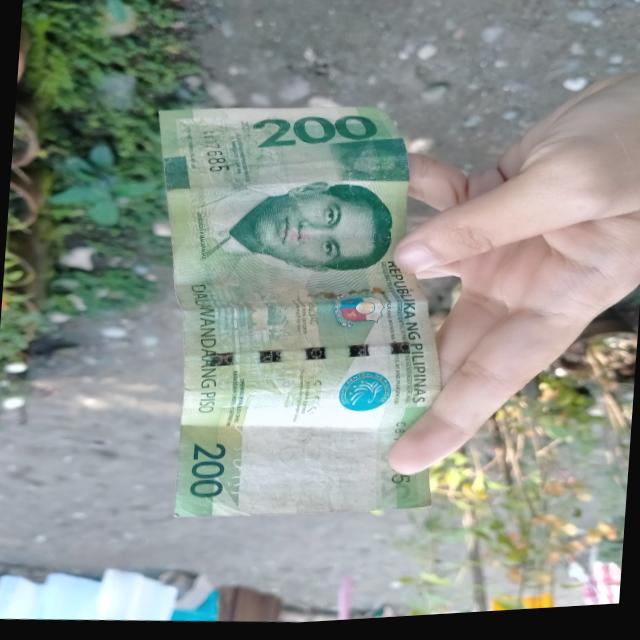concealed_value: (324, 137, 414, 190)
security_thread: (199, 332, 429, 385)
see_through_mark: (222, 411, 264, 502)
value: (252, 107, 376, 161)
